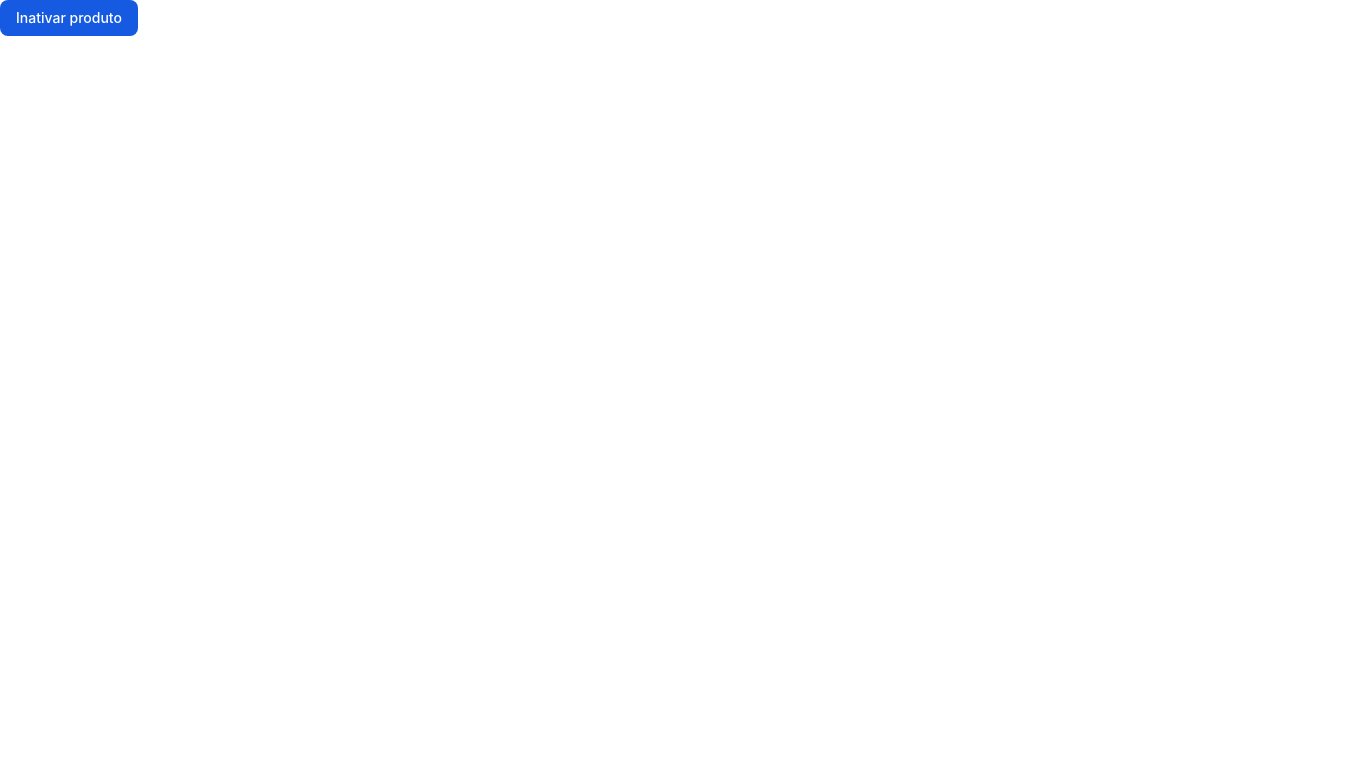
ConfirmDialog › abre ao acionar o gatilho
Click the button "Inativar produto" at (69, 18), box [0,0,138,36]
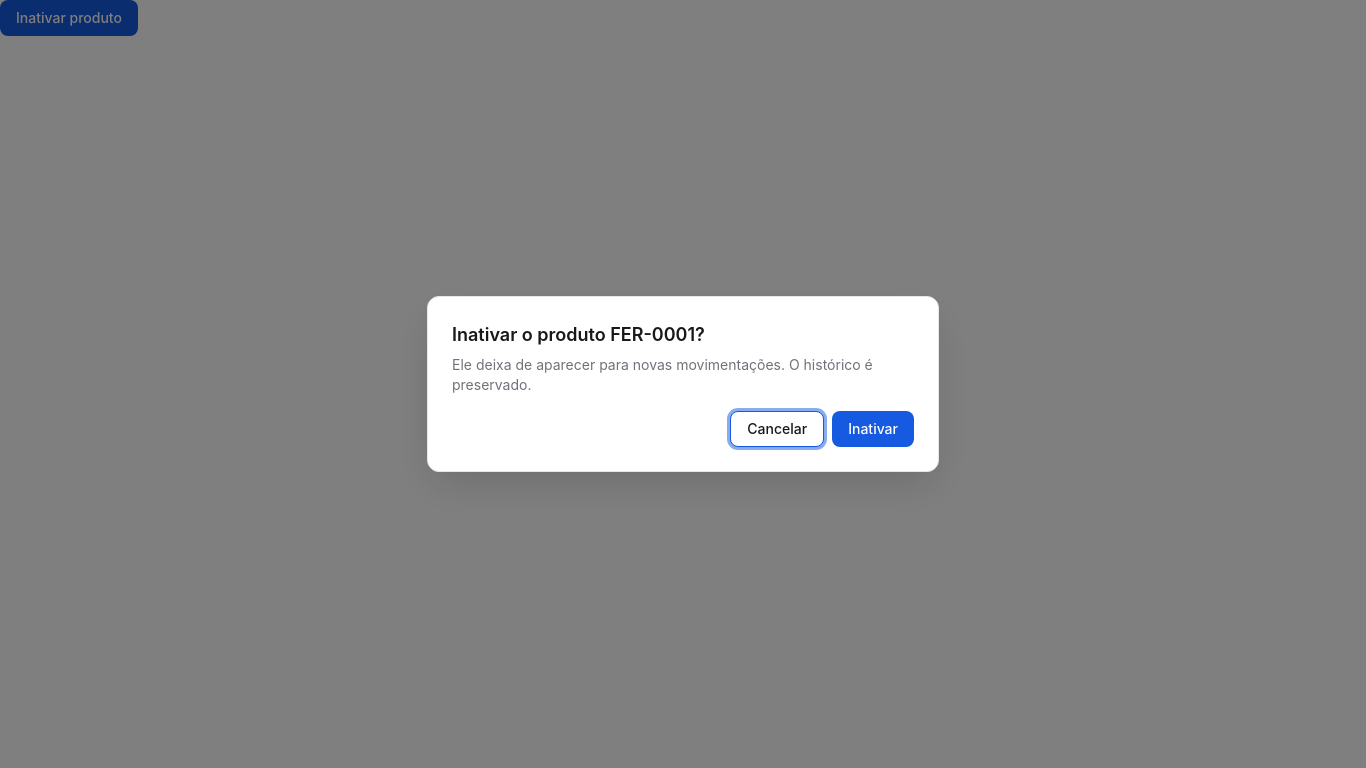
Now the dialog is shown, box [427,296,939,472]
